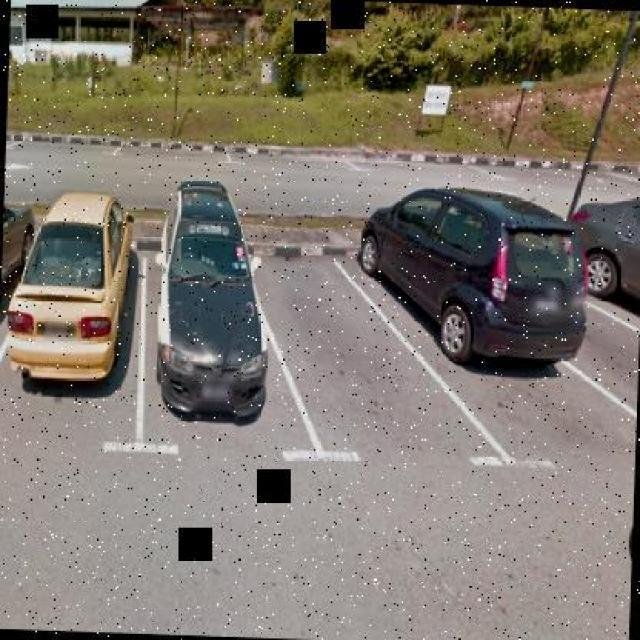car: (359, 178, 613, 396), (146, 142, 280, 462), (0, 170, 135, 404), (574, 152, 640, 297)
free: (256, 258, 430, 460)
